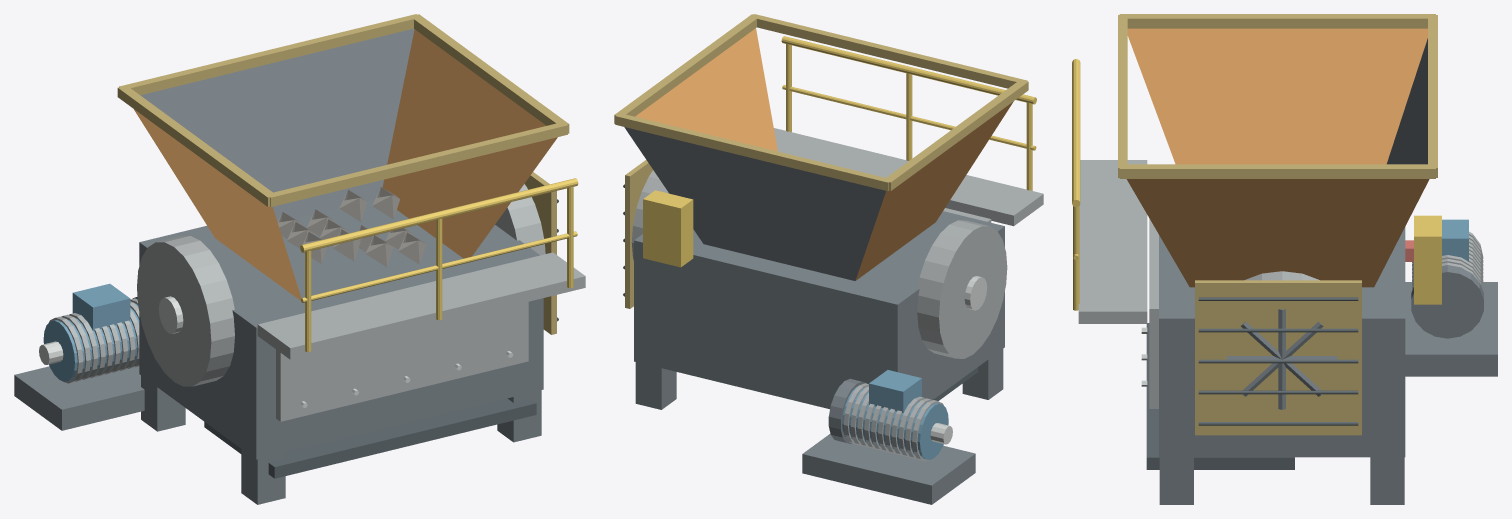
Rendered from crusher.glb.
The picture shows the model from 3 angles, left to right: view 1: azimuth 30°, elevation 25°; view 2: azimuth 150°, elevation 25°; view 3: azimuth 270°, elevation 25°; orthographic projection. The views are drawn at different scales.
Parts seen in each view (by area): view 1: Casting main crusher frame, Feed hopper rear wall, Feed hopper right wall, Bolted side liner, Operator grated platform, Counterweighted crusher flywheel (×2), Rim reinforcement (×2), Feed hopper left wall, Discharge apron, Drive motor plinth, Hopper rim beam (×2), Crusher heavy mounting foot (×3) (+7 smaller); view 2: Casting main crusher frame, Feed hopper rear wall, Counterweighted crusher flywheel (×2), Feed hopper right wall, Rim reinforcement (×2), Drive motor plinth, Feed hopper left wall, Operator grated platform, Hopper rim beam (×2), Control and isolation box, Crusher heavy mounting foot (×2), TEFC electric drive housing (+7 smaller); view 3: Feed hopper left wall, Feed hopper right wall, Flywheel guard screen, Casting main crusher frame, Operator grated platform, Hopper rim beam (×2), Drive motor plinth, Guard bar (×5), Motor fan cowling, Crusher heavy mounting foot (×2), Rim reinforcement (×2), Feed hopper rear wall (+7 smaller).
Part boxes in pixels (x1,y1,x2,y2): Casting main crusher frame: [139, 199, 543, 459]; Feed hopper rear wall: [140, 28, 414, 221]; Feed hopper right wall: [382, 29, 557, 258]; Bolted side liner: [276, 302, 528, 421]; Operator grated platform: [257, 252, 585, 359]; Counterweighted crusher flywheel (×2): [137, 184, 545, 386]; Rim reinforcement (×2): [119, 14, 567, 206]; Feed hopper left wall: [134, 109, 301, 300]; Discharge apron: [204, 398, 536, 478]; Drive motor plinth: [14, 366, 144, 430]; Hopper rim beam (×2): [117, 14, 569, 206]; Crusher heavy mounting foot (×3): [141, 375, 541, 504]; Casting main crusher frame: [634, 211, 1004, 409]; Feed hopper rear wall: [624, 127, 885, 280]; Counterweighted crusher flywheel (×2): [631, 170, 1007, 358]; Feed hopper right wall: [635, 28, 777, 151]; Rim reinforcement (×2): [615, 14, 1027, 191]; Drive motor plinth: [802, 433, 975, 504]; Feed hopper left wall: [855, 101, 1013, 280]; Operator grated platform: [774, 128, 1043, 226]; Hopper rim beam (×2): [614, 14, 1028, 190]; Control and isolation box: [643, 190, 693, 267]; Crusher heavy mounting foot (×2): [635, 349, 1003, 409]; TEFC electric drive housing: [842, 386, 948, 459]; Feed hopper left wall: [1127, 28, 1427, 164]; Feed hopper right wall: [1126, 179, 1429, 287]; Flywheel guard screen: [1195, 280, 1361, 435]; Casting main crusher frame: [1159, 227, 1405, 457]; Operator grated platform: [1078, 160, 1147, 323]; Hopper rim beam (×2): [1119, 14, 1435, 178]; Drive motor plinth: [1405, 282, 1497, 376]; Guard bar (×5): [1198, 297, 1358, 425]; Motor fan cowling: [1411, 265, 1483, 338]; Crusher heavy mounting foot (×2): [1159, 457, 1404, 504]; Rim reinforcement (×2): [1118, 15, 1437, 177]; Feed hopper rear wall: [1387, 38, 1427, 164].
Size of the model in its own units: 4 by 3.07 by 3.47.
